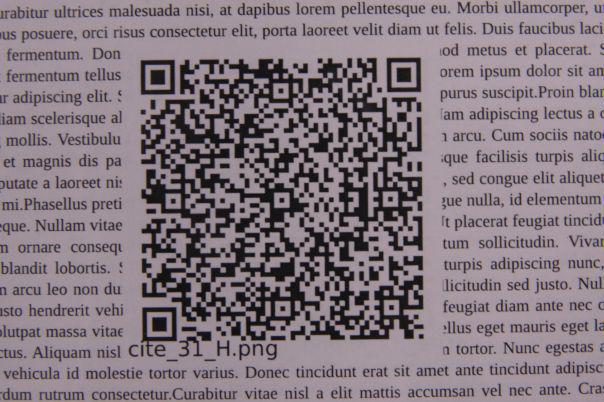Finder pattern: (138, 303, 182, 347), (383, 54, 425, 95), (137, 58, 179, 98)
